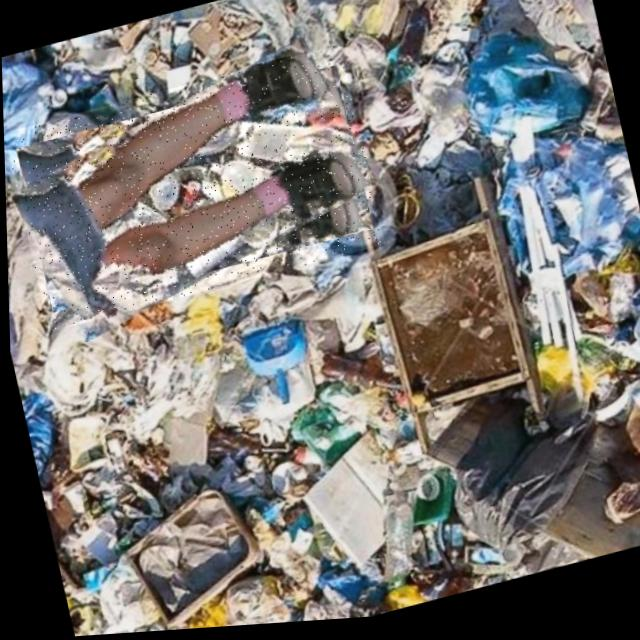Person in Rubble: (2, 47, 385, 334)
